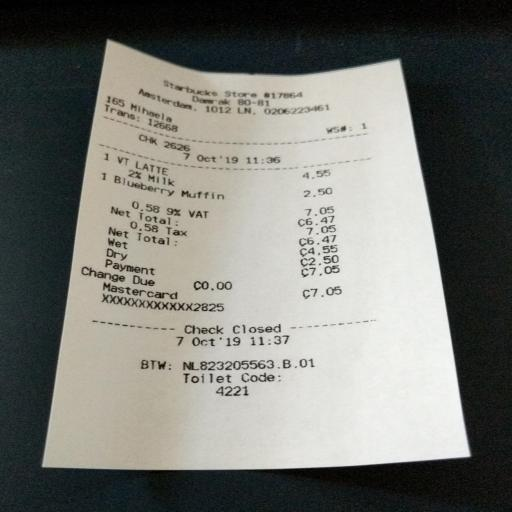paper: (18, 18, 512, 512)
